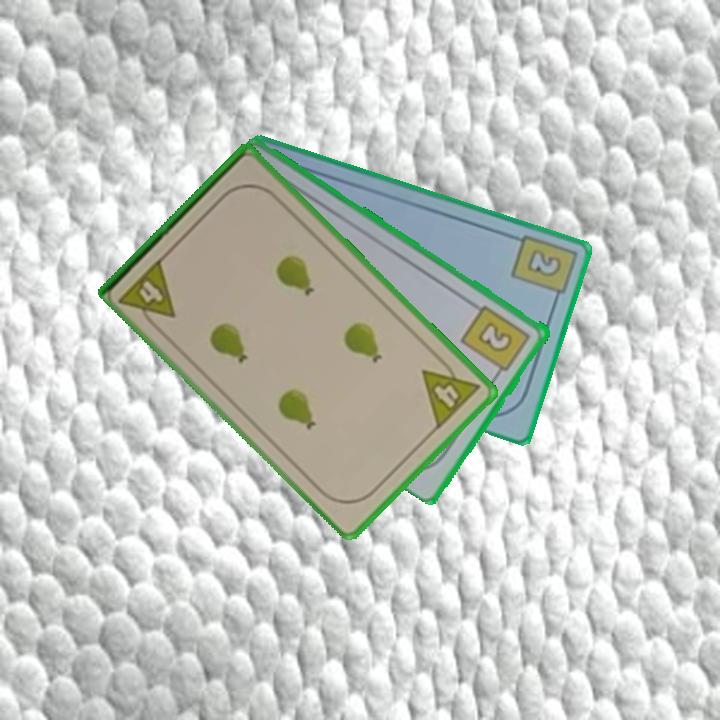2b: (458, 301, 534, 381), (507, 230, 579, 308)
4p: (418, 351, 483, 432), (116, 254, 179, 334)
